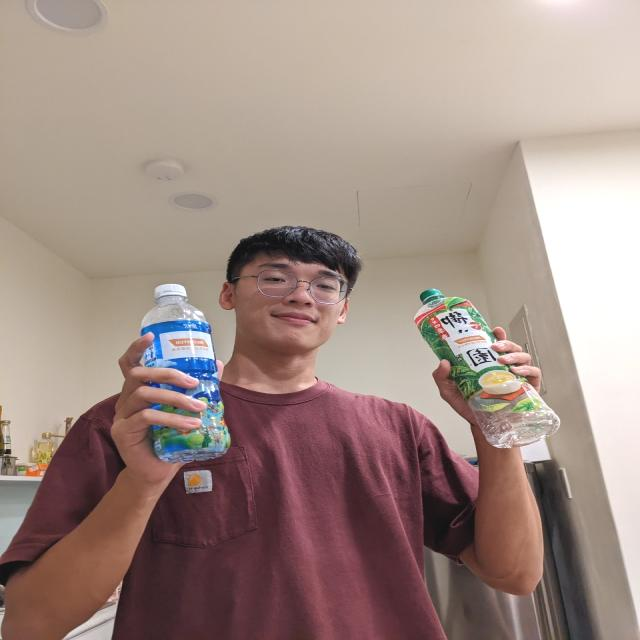bottle: (398, 285, 552, 451), (125, 275, 237, 470)
